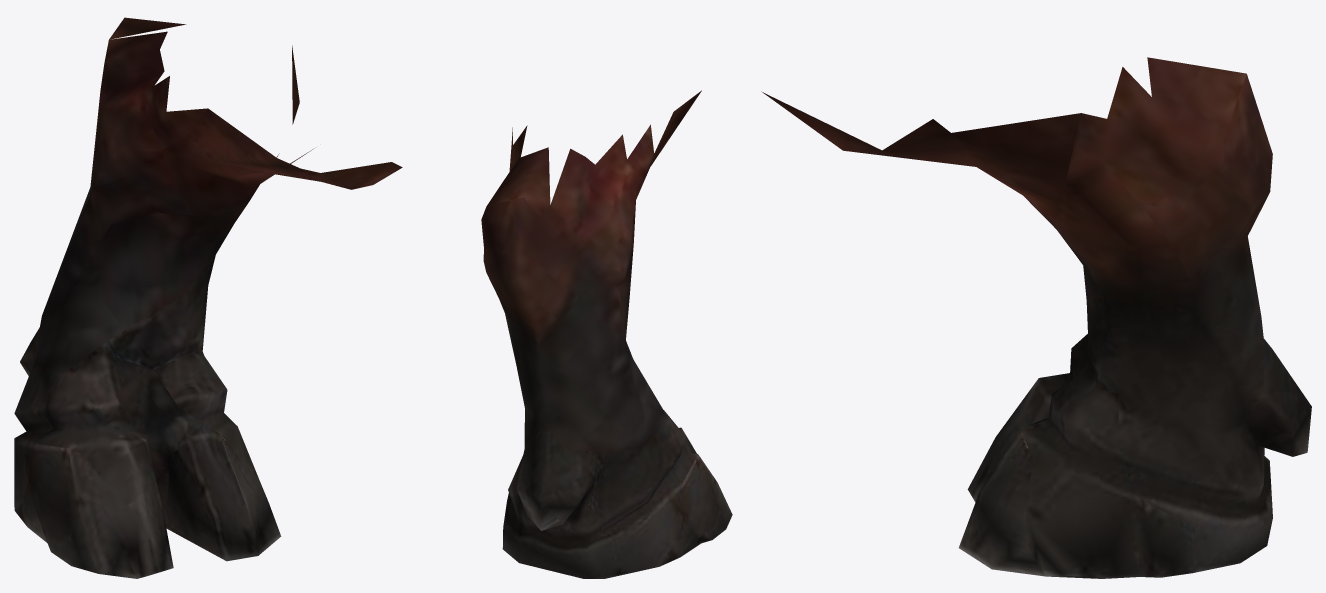
File: gorehorn_leg_bnegx.glb
3 renders of one model, left to right at view 1: azimuth 30°, elevation 25°; view 2: azimuth 150°, elevation 25°; view 3: azimuth 270°, elevation 25°, orthographic. The views are drawn at different scales.
Visible parts, largest first — view 1: gorehorn_leg_bnegx; view 2: gorehorn_leg_bnegx; view 3: gorehorn_leg_bnegx.
Boxes of the visible parts, x1=… form: gorehorn_leg_bnegx: x1=14, y1=17, x2=402, y2=578; gorehorn_leg_bnegx: x1=481, y1=90, x2=732, y2=578; gorehorn_leg_bnegx: x1=761, y1=57, x2=1311, y2=578.
Size of the model in its own units: 1.67 by 2.74 by 2.66.
Materials: 1 (1 with a texture image).
